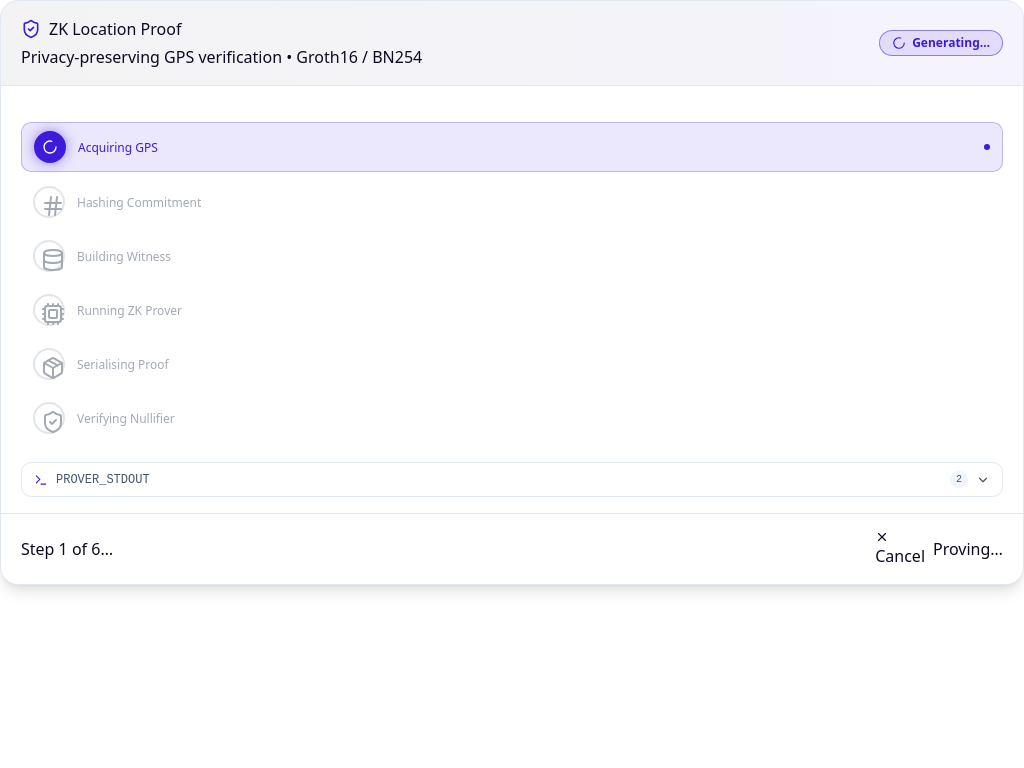
Test: ZKProofLoader — log console › expands log console on button click
Click the button "PROVER_STDOUT 2". click: coordinates (103, 480)
box: [21,462,1003,497]
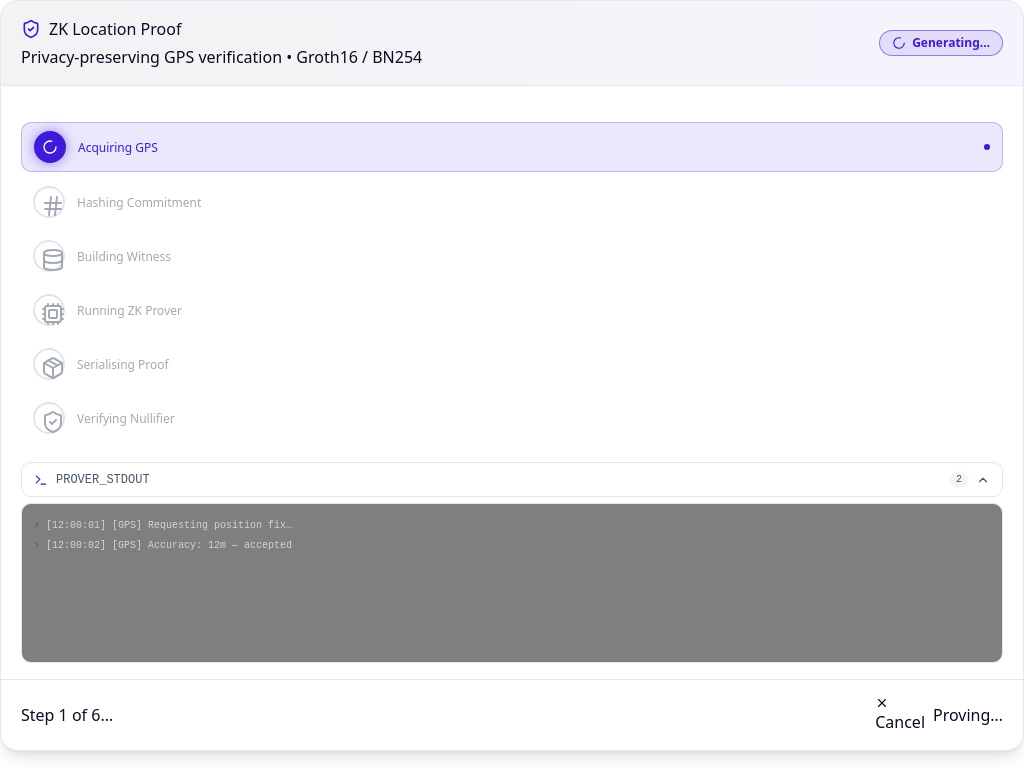
expect the button "PROVER_STDOUT 2" is expanded: met, box [21,462,1003,497]
